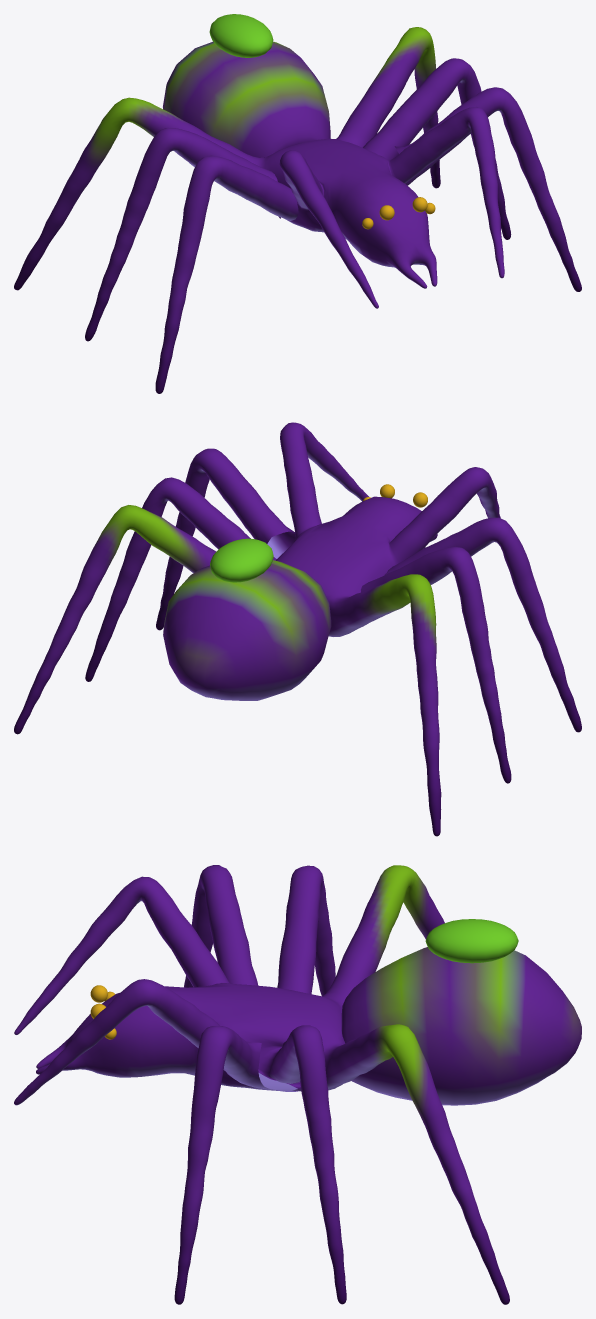
The model's file is Enemy_Crawler.fbx.
3 views of the same model, one above another, from view 1: azimuth 30°, elevation 25°; view 2: azimuth 150°, elevation 25°; view 3: azimuth 270°, elevation 25° (orthographic). The views are drawn at different scales.
Parts seen in each view (by area): view 1: Enemy_Crawler; view 2: Enemy_Crawler; view 3: Enemy_Crawler.
Part boxes in pixels (x1,y1,x2,y2): Enemy_Crawler: [14, 14, 581, 393]; Enemy_Crawler: [14, 422, 581, 836]; Enemy_Crawler: [14, 865, 581, 1304].
Size of the model in its own units: 2.06 by 1.06 by 2.07.
